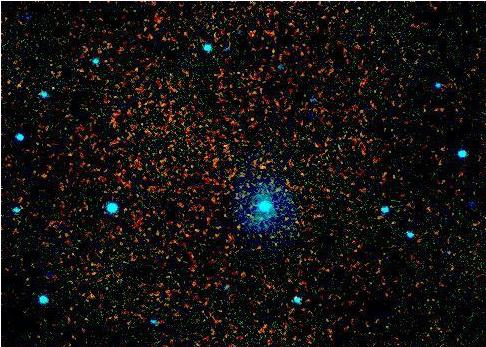star: (248, 153, 278, 183)
